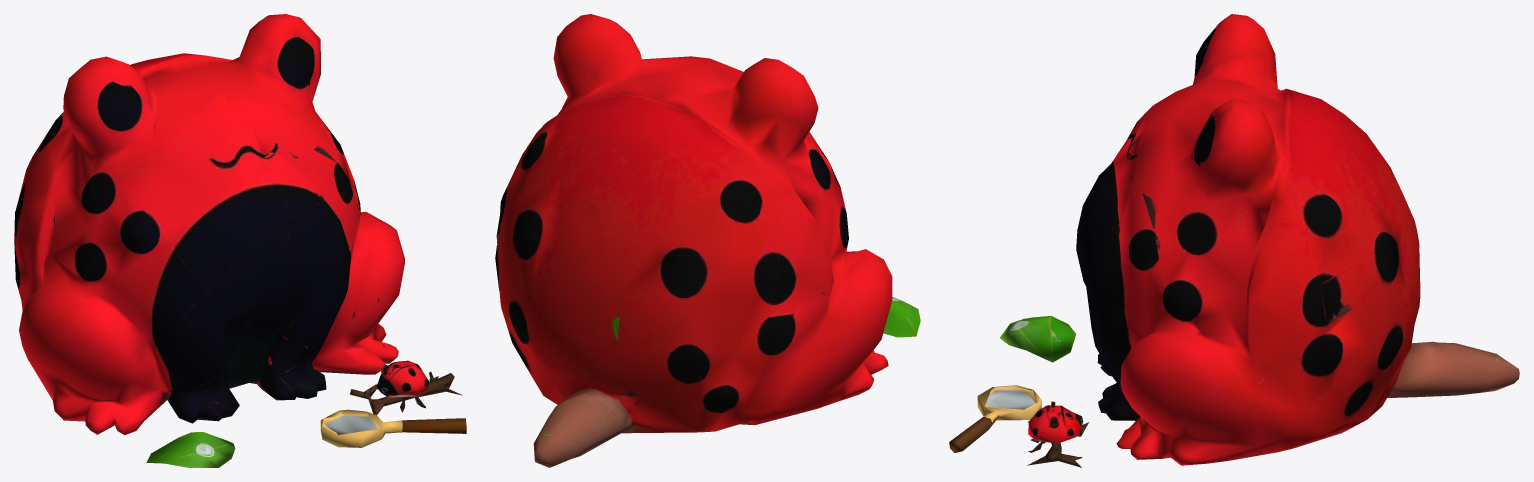
File: coccinelle.glb
3 views of the same model, side by side, from view 1: azimuth 30°, elevation 25°; view 2: azimuth 150°, elevation 25°; view 3: azimuth 270°, elevation 25° (orthographic).
Visible parts, largest first — view 1: mesh_node; view 2: mesh_node; view 3: mesh_node.
Boxes of the visible parts, x1,y1,x2,y2 form: mesh_node: [14, 14, 466, 467]; mesh_node: [495, 14, 920, 467]; mesh_node: [949, 14, 1519, 467].
Bounding box in the file's own units: 1.4 × 1.21 × 1.9.
1 material, 1 textured.
